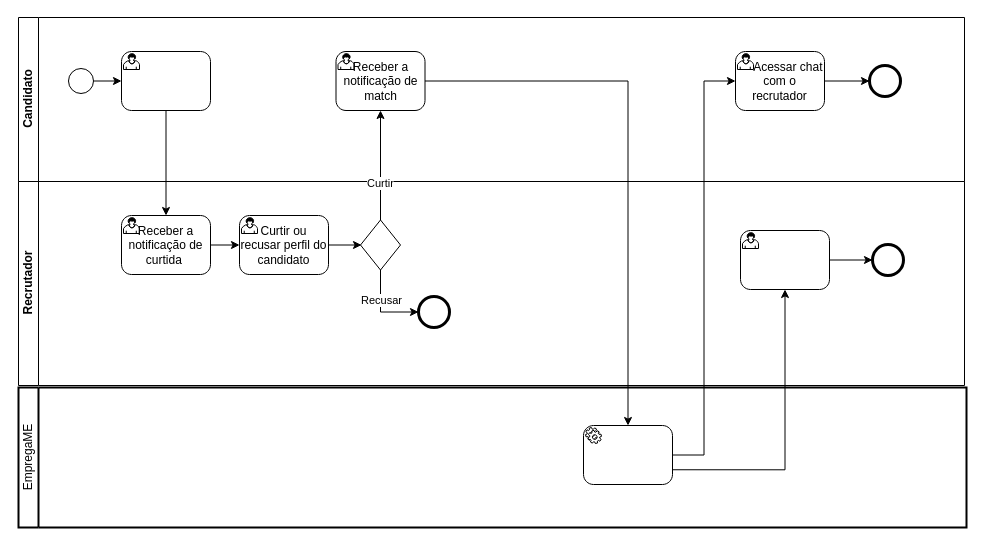
The diagram is 984 pixels wide and 546 high, and some of its shapes have lost their labels. The shapes that lost their labels are listed below. From the top down, each one's centre as x and y in pixels, then its label:
At pixel 165 80: "Curtir as vagas que possuem interesse".
At pixel 785 260: "Acessar chat com o candidato".
At pixel 627 454: "Disponibilizar chat".
